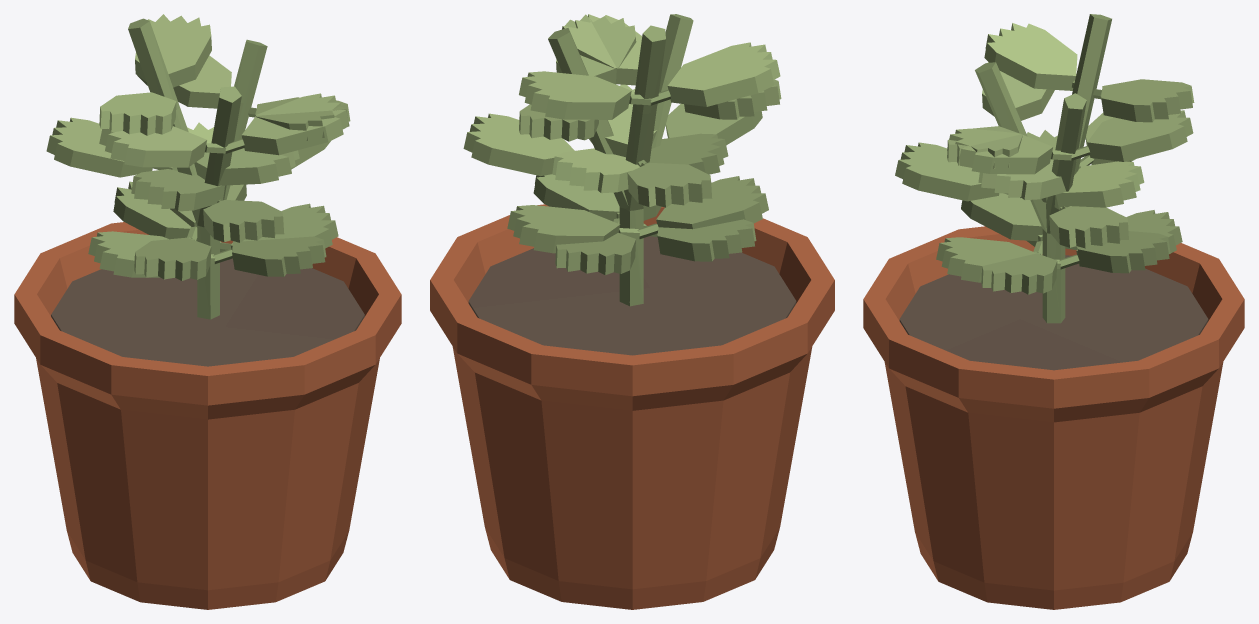
Rendered from new-tomentosa-cot.glb.
The picture shows the model from 3 angles, left to right: view 1: azimuth 30°, elevation 25°; view 2: azimuth 150°, elevation 25°; view 3: azimuth 270°, elevation 25°; orthographic projection. The views are drawn at different scales.
Visible parts, largest first — view 1: new-tomentosa-cot/review-terra-vessel, new-tomentosa-cot/review-rooted-soil, new-tomentosa-cot/leaf-039, new-tomentosa-cot/leaf-037, new-tomentosa-cot/leaf-024, new-tomentosa-cot/stem-014, new-tomentosa-cot/leaf-003, new-tomentosa-cot/leaf-020, new-tomentosa-cot/leaf-009, new-tomentosa-cot/leaf-033, new-tomentosa-cot/leaf-018, new-tomentosa-cot/leaf-026 (+9 smaller); view 2: new-tomentosa-cot/review-terra-vessel, new-tomentosa-cot/review-rooted-soil, new-tomentosa-cot/leaf-026, new-tomentosa-cot/leaf-024, new-tomentosa-cot/leaf-007, new-tomentosa-cot/stem-014, new-tomentosa-cot/leaf-016, new-tomentosa-cot/leaf-018, new-tomentosa-cot/leaf-020, new-tomentosa-cot/leaf-029, new-tomentosa-cot/leaf-035, new-tomentosa-cot/stem-001 (+10 smaller); view 3: new-tomentosa-cot/review-terra-vessel, new-tomentosa-cot/review-rooted-soil, new-tomentosa-cot/leaf-026, new-tomentosa-cot/leaf-013, new-tomentosa-cot/leaf-033, new-tomentosa-cot/leaf-024, new-tomentosa-cot/leaf-035, new-tomentosa-cot/leaf-011, new-tomentosa-cot/stem-014, new-tomentosa-cot/leaf-007, new-tomentosa-cot/leaf-016, new-tomentosa-cot/stem-027 (+8 smaller).
Boxes of the visible parts, box(x1,y1,x2,y2) form: new-tomentosa-cot/review-terra-vessel: box(14, 222, 401, 609); new-tomentosa-cot/review-rooted-soil: box(51, 252, 364, 366); new-tomentosa-cot/leaf-039: box(241, 93, 349, 155); new-tomentosa-cot/leaf-037: box(99, 126, 206, 167); new-tomentosa-cot/leaf-024: box(135, 14, 211, 87); new-tomentosa-cot/stem-014: box(128, 18, 210, 319); new-tomentosa-cot/leaf-003: box(232, 236, 326, 276); new-tomentosa-cot/leaf-020: box(46, 117, 152, 177); new-tomentosa-cot/leaf-009: box(131, 169, 224, 211); new-tomentosa-cot/leaf-033: box(203, 200, 284, 242); new-tomentosa-cot/leaf-018: box(134, 237, 211, 280); new-tomentosa-cot/leaf-026: box(99, 92, 176, 135); new-tomentosa-cot/review-terra-vessel: box(430, 204, 834, 609); new-tomentosa-cot/review-rooted-soil: box(468, 236, 796, 355); new-tomentosa-cot/leaf-026: box(667, 42, 780, 106); new-tomentosa-cot/leaf-024: box(519, 71, 631, 119); new-tomentosa-cot/leaf-007: box(463, 113, 574, 176); new-tomentosa-cot/stem-014: box(619, 25, 665, 306); new-tomentosa-cot/leaf-016: box(507, 205, 620, 253); new-tomentosa-cot/leaf-018: box(656, 176, 768, 229); new-tomentosa-cot/leaf-020: box(627, 163, 712, 207); new-tomentosa-cot/leaf-029: box(657, 219, 756, 261); new-tomentosa-cot/leaf-035: box(552, 148, 639, 193); new-tomentosa-cot/stem-001: box(548, 28, 643, 306); new-tomentosa-cot/review-terra-vessel: box(863, 226, 1244, 609); new-tomentosa-cot/review-rooted-soil: box(899, 255, 1208, 370); new-tomentosa-cot/leaf-026: box(984, 23, 1077, 90); new-tomentosa-cot/leaf-013: box(1087, 110, 1193, 161); new-tomentosa-cot/leaf-033: box(895, 142, 999, 201); new-tomentosa-cot/leaf-024: box(1101, 79, 1194, 122); new-tomentosa-cot/leaf-035: box(1046, 161, 1144, 209); new-tomentosa-cot/leaf-011: box(947, 128, 1052, 174); new-tomentosa-cot/stem-014: box(1055, 14, 1111, 322); new-tomentosa-cot/leaf-007: box(1049, 206, 1128, 248); new-tomentosa-cot/leaf-016: box(1077, 231, 1170, 273); new-tomentosa-cot/stem-027: box(975, 62, 1060, 323).
Bounding box in the file's own units: 0.19 × 0.2849 × 0.19.
Materials: 3 (3 with a texture image).
